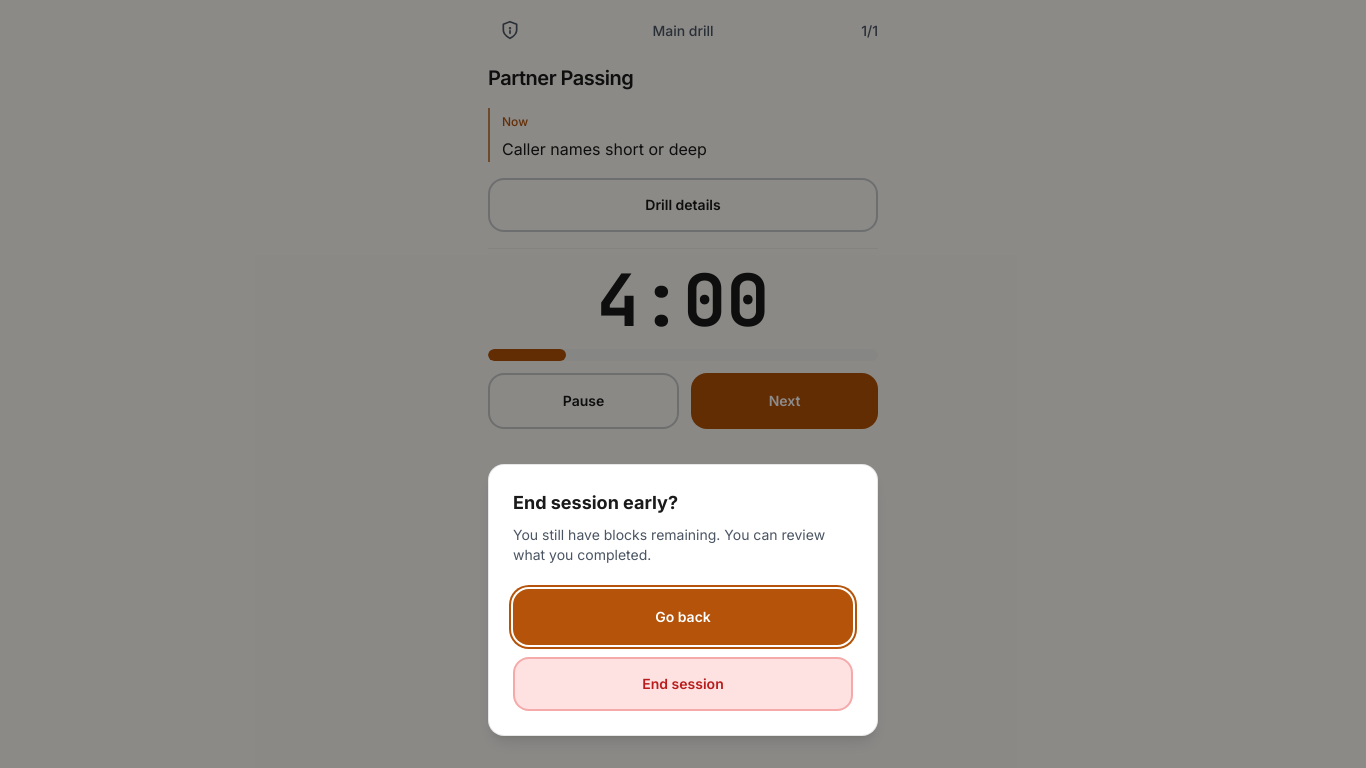
Test: RunScreen Run Face v1 › ignores cancellation while end-session confirmation is in flight
Click the button "End session" at [683, 684], box [513, 657, 853, 711]
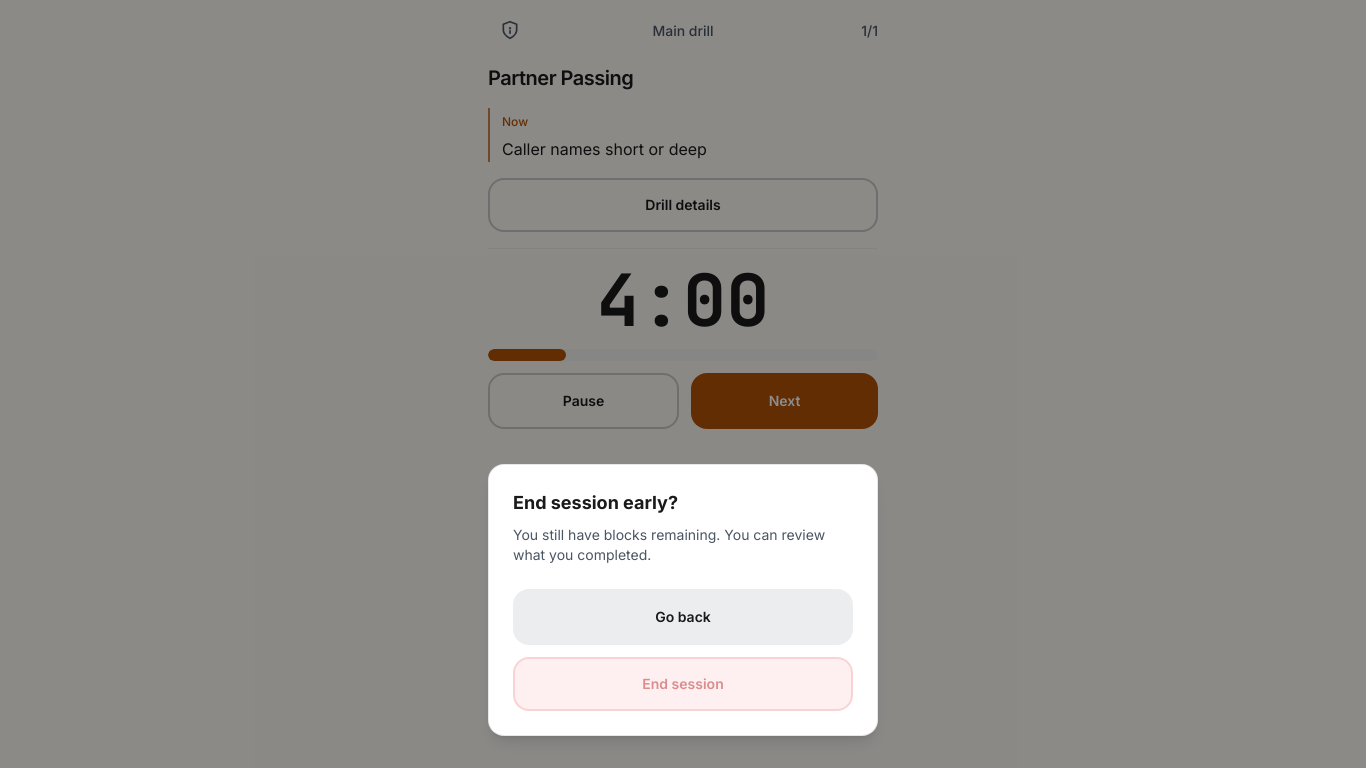
Press Escape
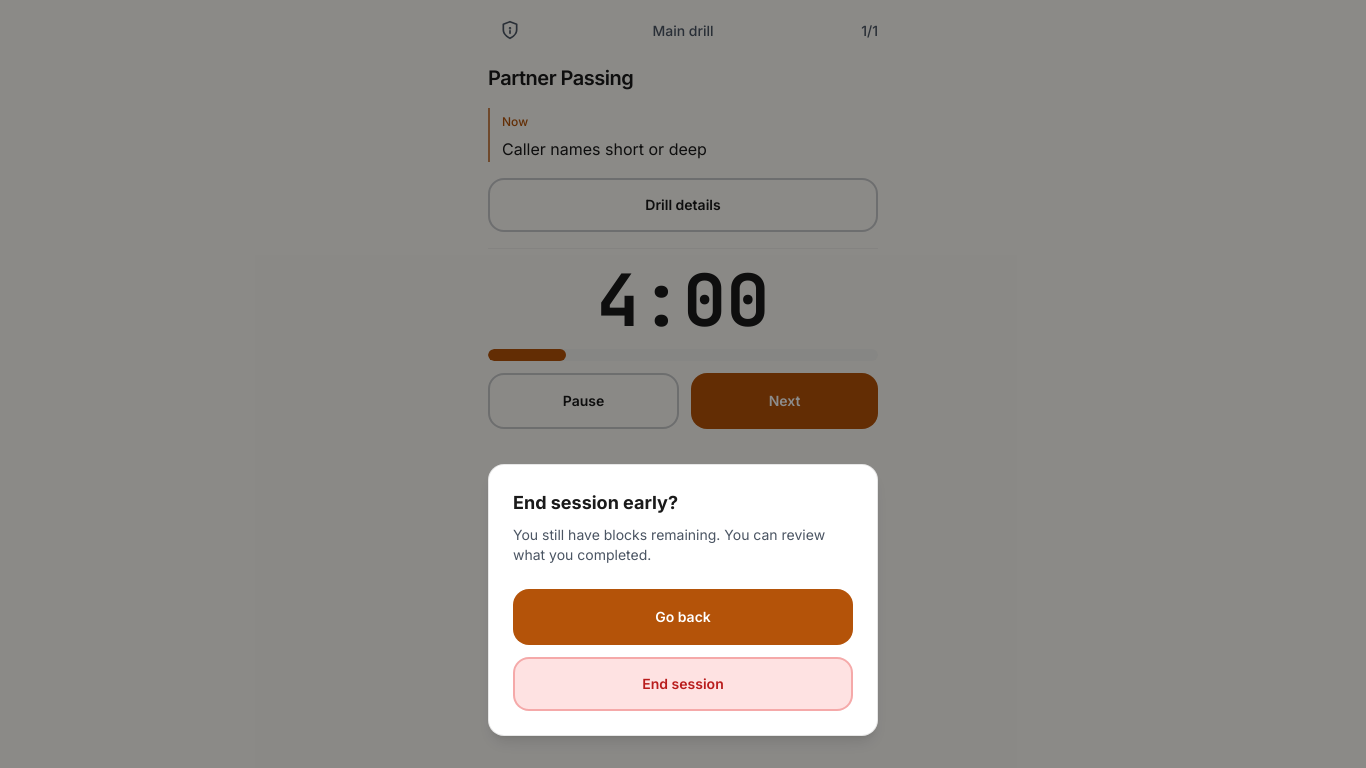
Now the button "End session" is enabled, box [513, 657, 853, 711]
